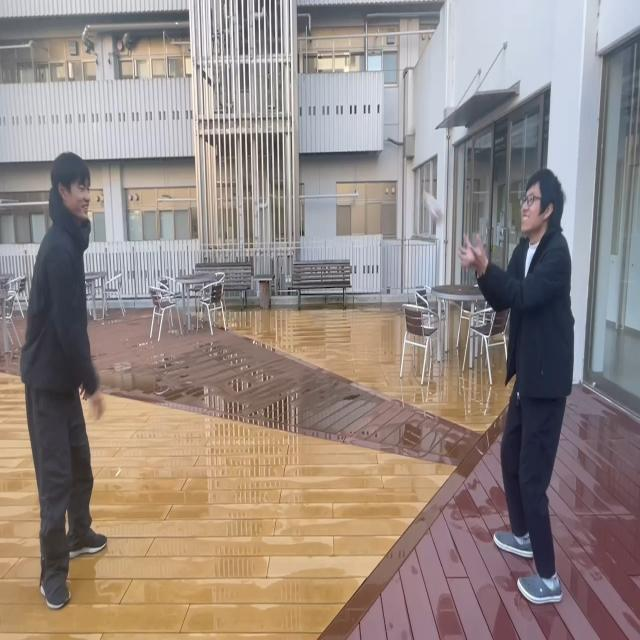bottle: (423, 188, 445, 224)
